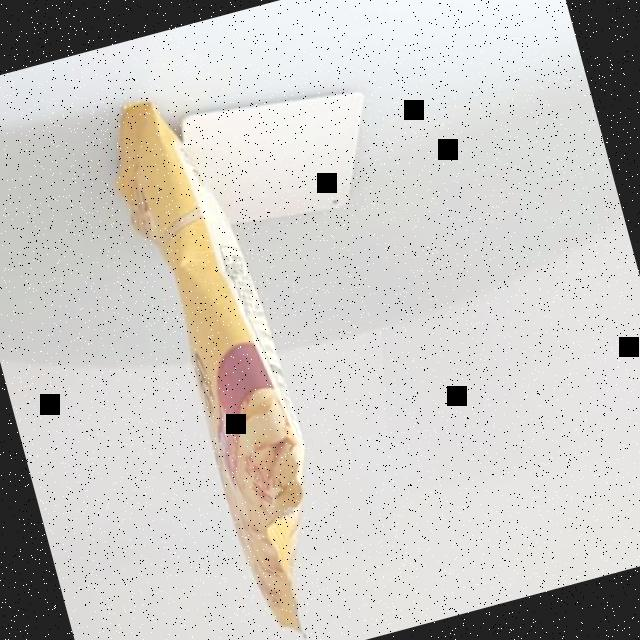snack_bag: (74, 67, 370, 640)
